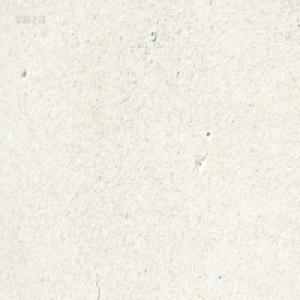Washer: (149, 30, 156, 40)
